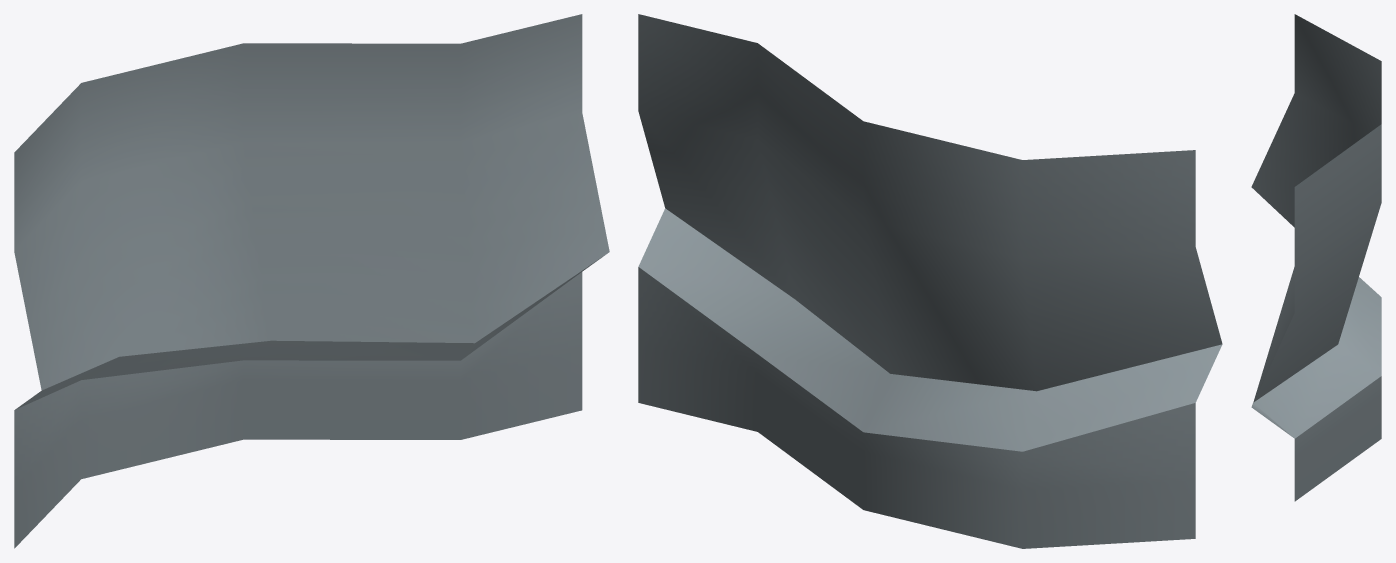
Rendered from cliff_side_b.glb.
The picture shows the model from 3 angles, left to right: view 1: azimuth 30°, elevation 25°; view 2: azimuth 150°, elevation 25°; view 3: azimuth 270°, elevation 25°; orthographic projection. The views are drawn at different scales.
Visible parts, largest first — view 1: Hill_Cliff_B_Side_Color1; view 2: Hill_Cliff_B_Side_Color1; view 3: Hill_Cliff_B_Side_Color1.
Part boxes in pixels (<box>): Hill_Cliff_B_Side_Color1: <box>14,14,609,548</box>; Hill_Cliff_B_Side_Color1: <box>638,14,1222,548</box>; Hill_Cliff_B_Side_Color1: <box>1251,14,1381,501</box>.
Bounding box in the file's own units: 3 × 2 × 0.75.
1 material, 1 textured.
